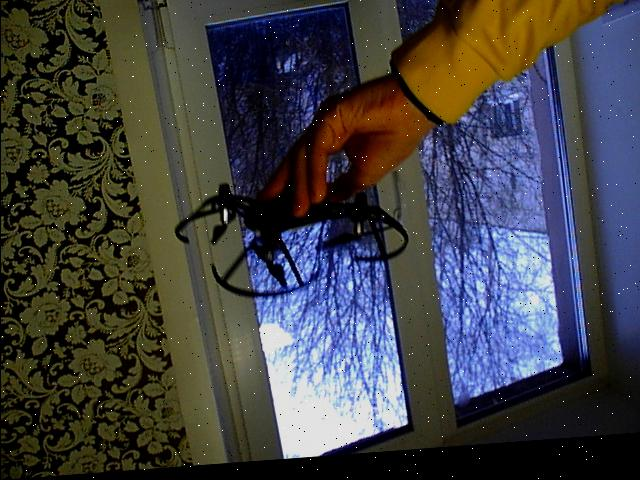drone: (166, 152, 408, 310)
